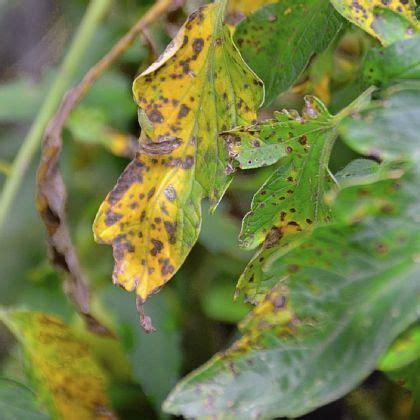black-spot: (125, 189, 172, 244)
